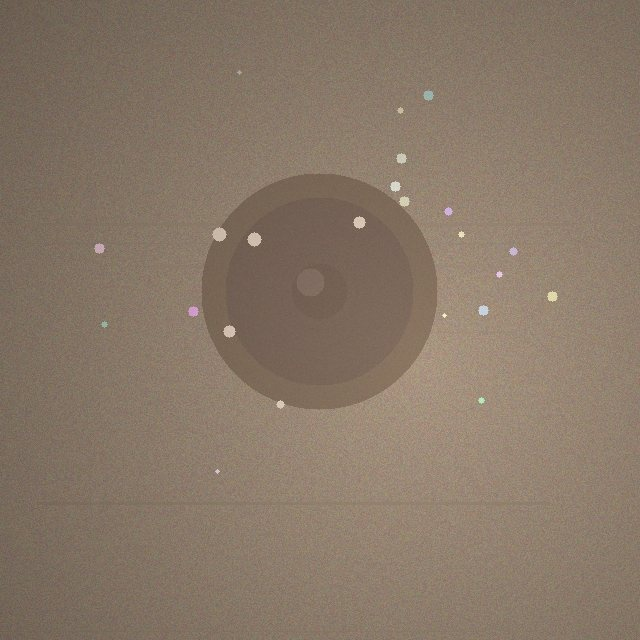overburn: (201, 173, 437, 409)
